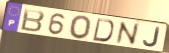6: (47, 12, 66, 36)
B: (19, 8, 46, 34)
D: (91, 18, 115, 43)
J: (142, 27, 162, 49)
N: (115, 21, 140, 47)
O: (69, 15, 93, 41)
